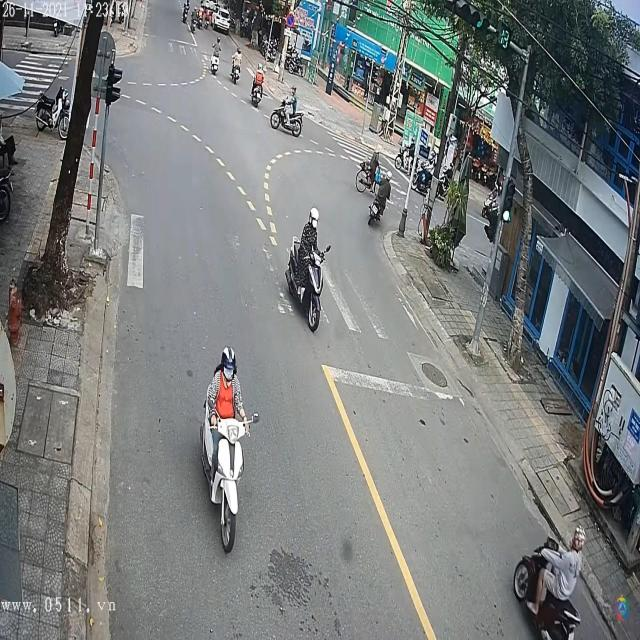motorcycle: (198, 396, 250, 556), (285, 230, 325, 335), (269, 106, 304, 136), (368, 184, 384, 227), (252, 76, 265, 107), (231, 60, 243, 88), (210, 49, 221, 78)
